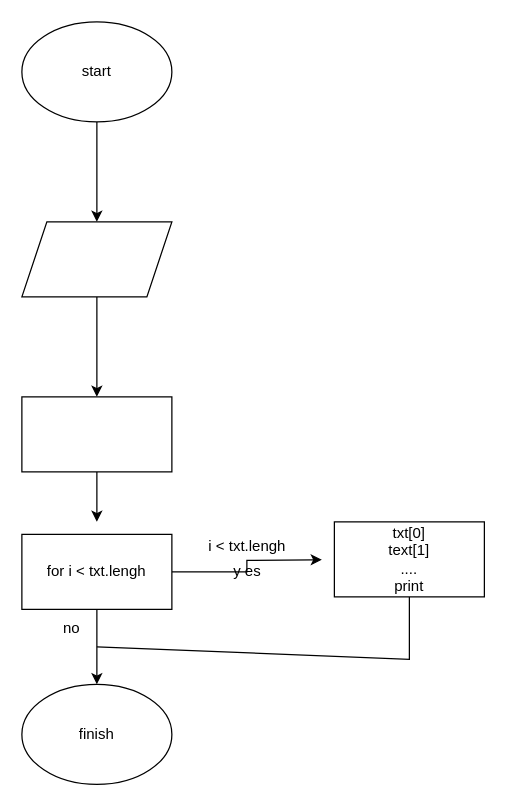
Image size: 506x806. Some labels were removed from this diagram. The centre of each missing label's shape, as x and y in pixels:
"get lenth text" goes at [96,434].
"input Name" goes at [96,259].
